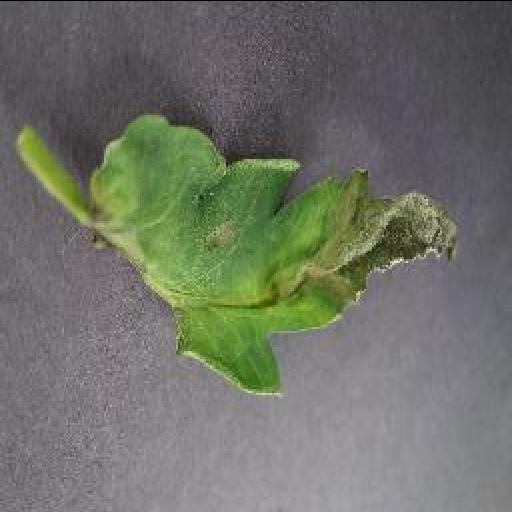disease_tomato: (88, 114, 458, 404)
